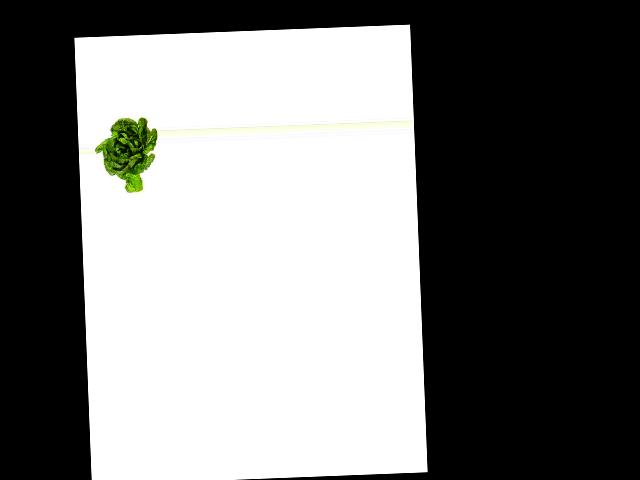lettuce: (93, 115, 157, 196)
